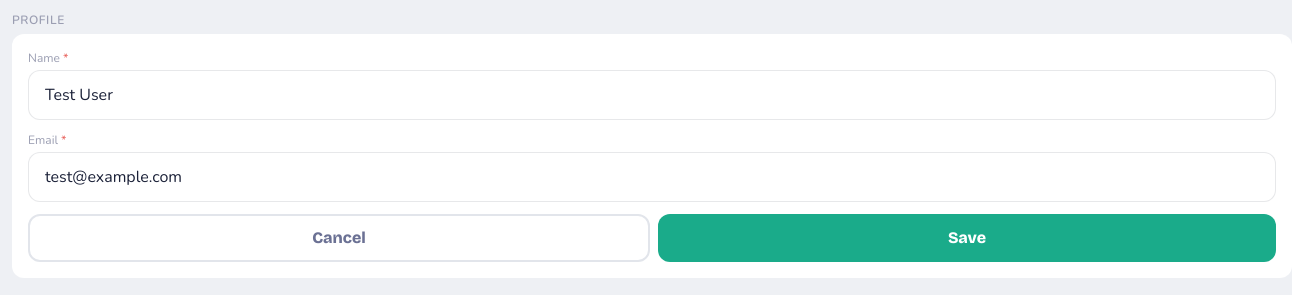
ProfileSection › disables save when name is empty
Clear the field showing "Test User" at [652, 95], box [28,70,1276,120]
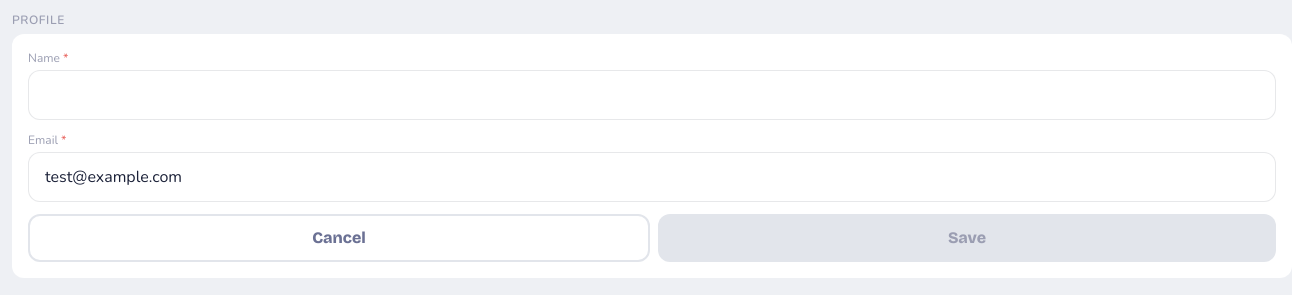
expect the button "Save" is disabled: met, box [658,214,1276,262]
